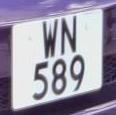5: (31, 59, 50, 103)
8: (50, 57, 70, 99)
9: (68, 52, 88, 95)
N: (60, 13, 79, 61)
W: (40, 14, 61, 63)
